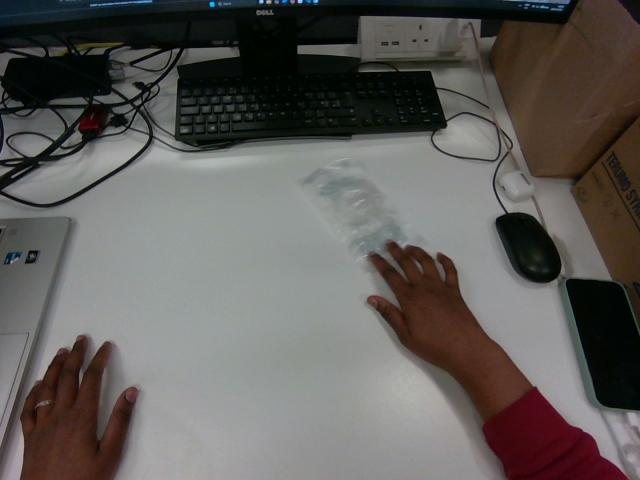gallipot: (301, 159, 423, 262)
